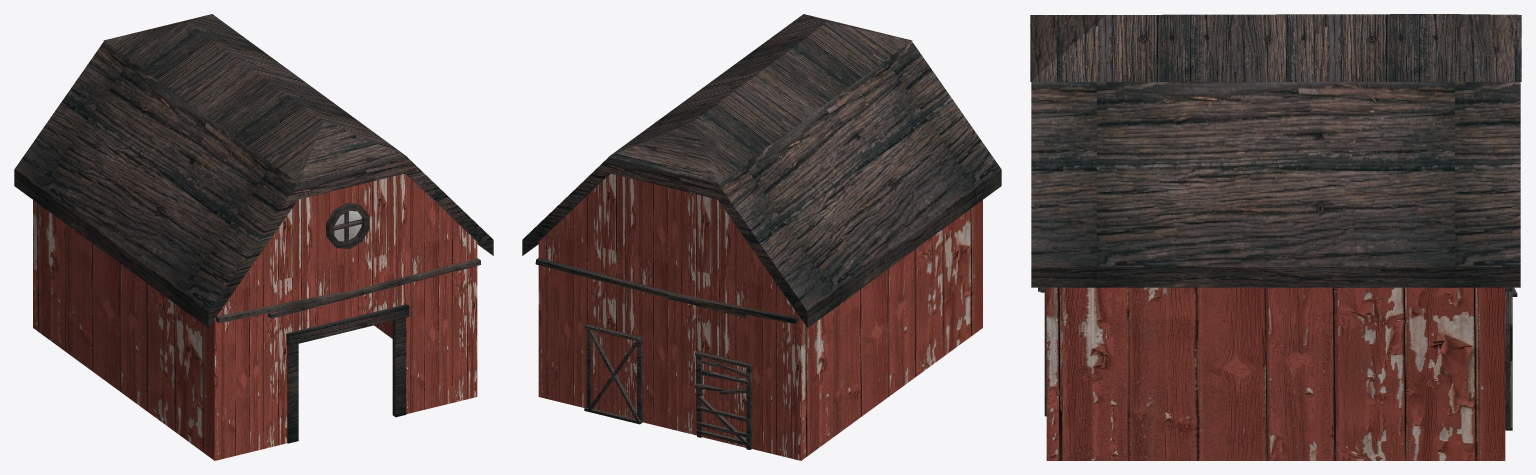
Rendered from Barn5_2.FBX.
3 renders of one model, left to right at view 1: azimuth 30°, elevation 25°; view 2: azimuth 150°, elevation 25°; view 3: azimuth 270°, elevation 25°, orthographic. The views are drawn at different scales.
Parts seen in each view (by area): view 1: Box001, Box003, Box005, Box002, Box008, Box009, Box007, Box006, Tube001, Box010; view 2: Box001, Box003, Box005, Box002, Box011, Box012, Box035, Box034, Box031, Box014; view 3: Box003, Box001, Box005, Box028.
Boxes of the visible parts, x1=… form: Box001: x1=33, y1=200, x2=477, y2=460; Box003: x1=14, y1=41, x2=493, y2=327; Box005: x1=103, y1=14, x2=406, y2=183; Box002: x1=234, y1=173, x2=468, y2=291; Box008: x1=286, y1=304, x2=409, y2=345; Box009: x1=268, y1=258, x2=480, y2=318; Box007: x1=392, y1=317, x2=406, y2=417; Box006: x1=287, y1=344, x2=298, y2=443; Tube001: x1=326, y1=203, x2=369, y2=248; Box010: x1=216, y1=291, x2=346, y2=322; Box001: x1=538, y1=200, x2=982, y2=460; Box003: x1=522, y1=41, x2=1001, y2=327; Box005: x1=609, y1=14, x2=912, y2=183; Box002: x1=547, y1=173, x2=781, y2=291; Box011: x1=591, y1=330, x2=636, y2=418; Box012: x1=702, y1=357, x2=746, y2=447; Box035: x1=535, y1=258, x2=748, y2=318; Box034: x1=667, y1=292, x2=798, y2=323; Box031: x1=586, y1=328, x2=640, y2=422; Box014: x1=746, y1=368, x2=752, y2=449; Box003: x1=1031, y1=82, x2=1520, y2=287; Box001: x1=1046, y1=287, x2=1505, y2=460; Box005: x1=1030, y1=14, x2=1521, y2=81; Box028: x1=1505, y1=323, x2=1509, y2=429.
Bounding box in the file's own units: 272 × 264 × 322.
4 materials, 4 textured.
